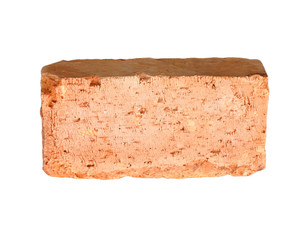brick: (41, 68, 267, 177)
